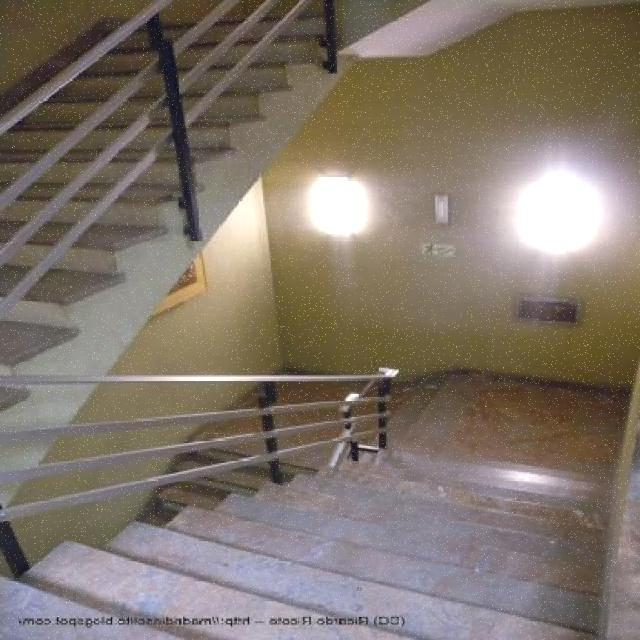stair: (0, 8, 357, 520), (0, 367, 640, 640)
